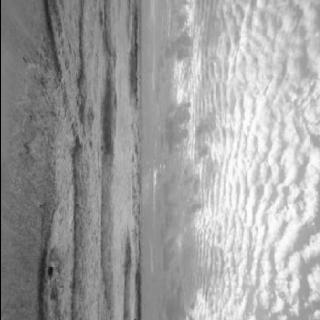Cirrostratus: (149, 0, 320, 320)
